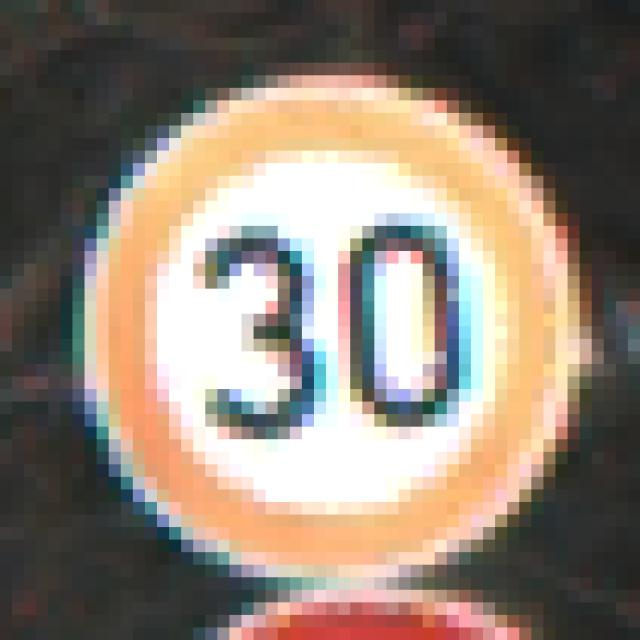Speed Limit -30-: (54, 56, 562, 571)
